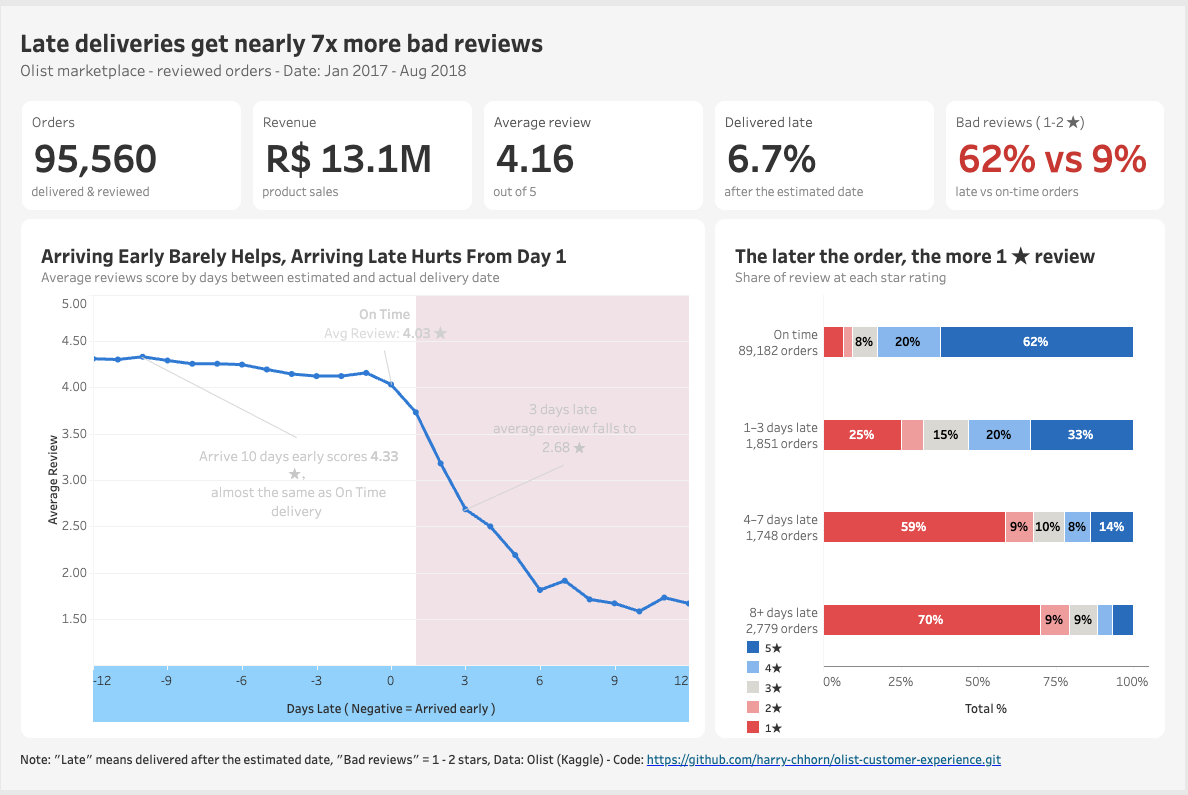

What the dashboard file says about the page in this screenshot:
{"tool":"tableau","page":{"name":"Main-DB","canvas":[1200,800],"ordinal":0},"visuals":[{"type":"text","box":[8,8,1184,64]},{"type":"worksheet","title":"KPI-order","mark":"Text","box":[8,72,237,128]},{"type":"worksheet","title":"KPI-revenue","mark":"Text","box":[245,72,237,128]},{"type":"worksheet","title":"KPI-avg-reviews","mark":"Text","box":[482,72,237,128]},{"type":"worksheet","title":"KPI-late-rate","mark":"Text","box":[719,72,237,128]},{"type":"worksheet","title":"KPI-bad-review","mark":"Text","box":[956,72,236,128]},{"type":"worksheet","title":"Arr","mark":"Line","rows":["Calculation_5459556320530435"],"cols":["days_late"],"box":[32,224,1136,544]}]}

Visuals, with their boxes in screenshot pixels (x1, y1, x2, y2), scaled from the page's 1200x800 canvas onto the 1188x795 screenshot:
text: rect(8, 8, 1180, 72)
"KPI-order" worksheet (Text marks): rect(8, 72, 243, 199)
"KPI-revenue" worksheet (Text marks): rect(243, 72, 477, 199)
"KPI-avg-reviews" worksheet (Text marks): rect(477, 72, 712, 199)
"KPI-late-rate" worksheet (Text marks): rect(712, 72, 946, 199)
"KPI-bad-review" worksheet (Text marks): rect(946, 72, 1180, 199)
"Arr" worksheet (Line marks): rect(32, 223, 1156, 763)
